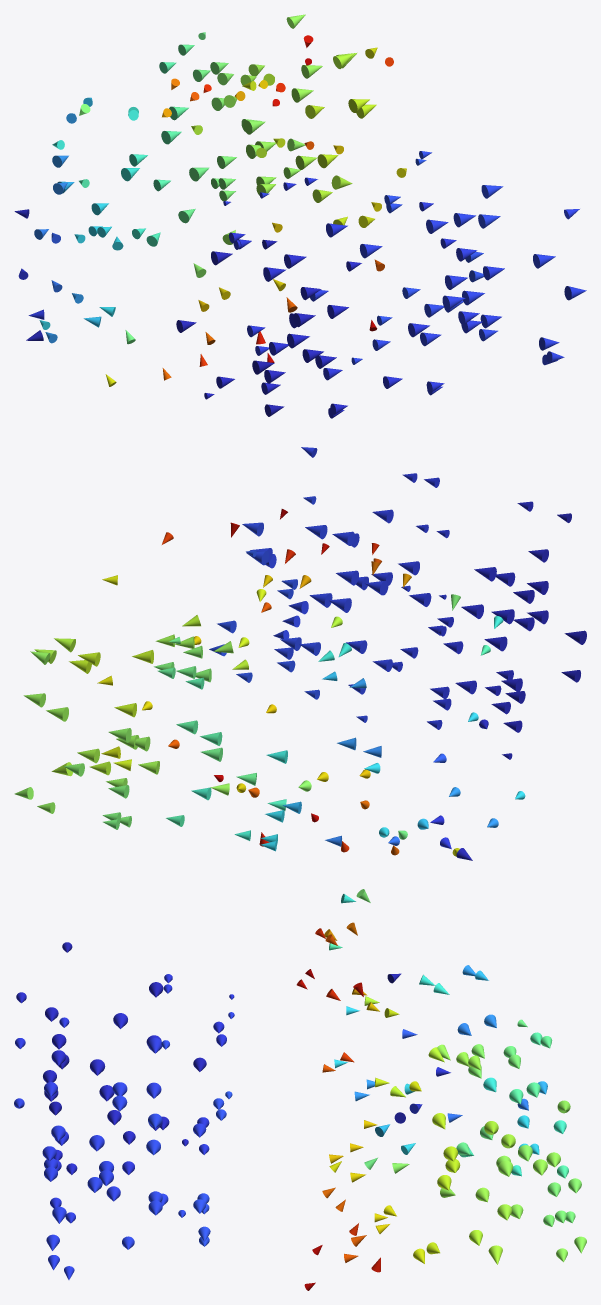
The model's file is LineasCorrienteN2-H2O_mh2-5.58_V-1.glb.
3 renders of one model, top to bottom at view 1: azimuth 30°, elevation 25°; view 2: azimuth 150°, elevation 25°; view 3: azimuth 270°, elevation 25°, orthographic.
Bounding box in the file's own units: 0.000982 × 0.000707 × 0.00119.
Materials: 2 (2 with a texture image).
